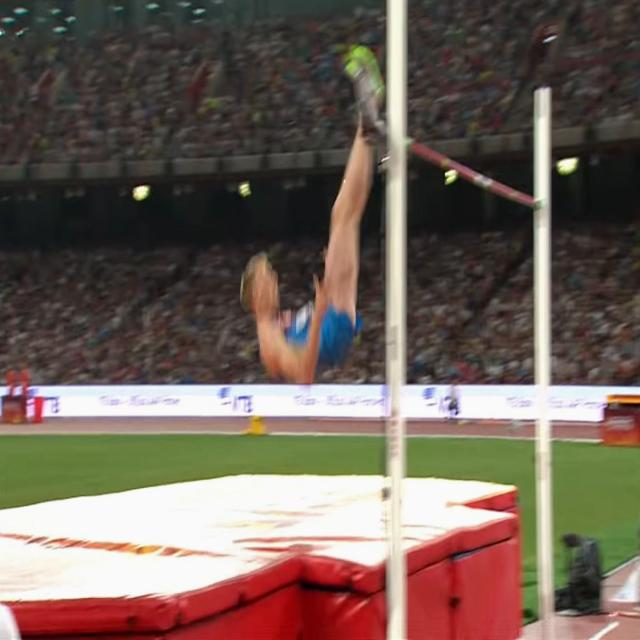land: (239, 45, 386, 384)
